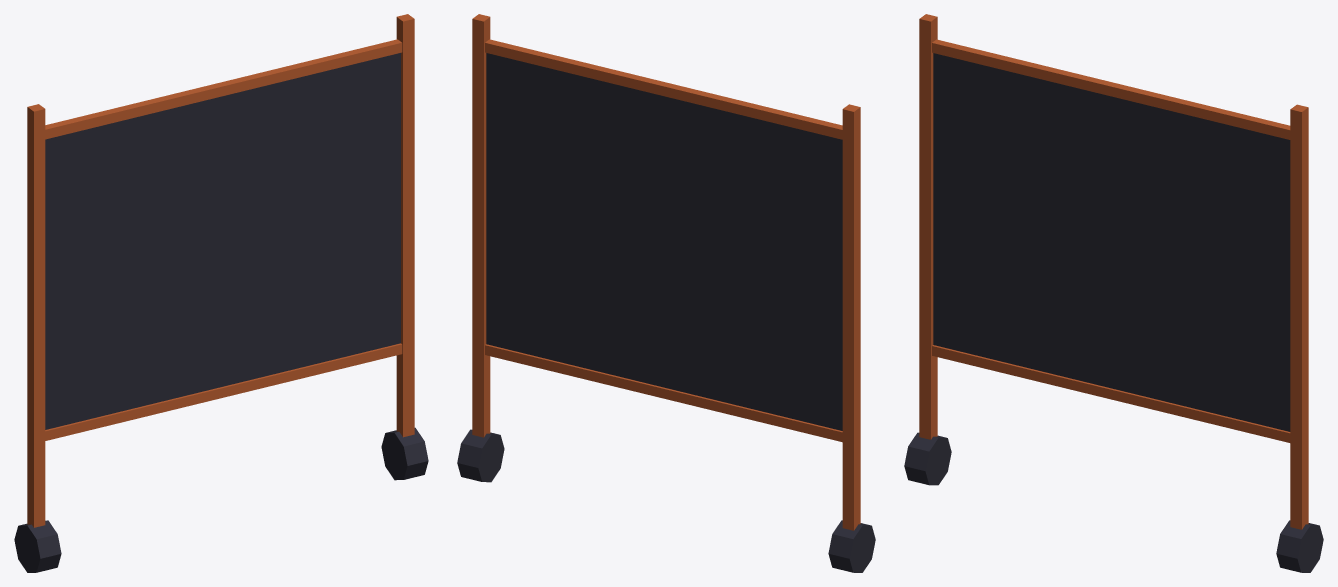
The model's file is Blackboard.fbx.
3 views of the same model, side by side, from view 1: azimuth 30°, elevation 25°; view 2: azimuth 150°, elevation 25°; view 3: azimuth 330°, elevation 25° (orthographic).
Visible parts, largest first — view 1: Blackboard; view 2: Blackboard; view 3: Blackboard.
Part boxes in pixels (<box>): Blackboard: <box>14,14,428,572</box>; Blackboard: <box>457,14,875,572</box>; Blackboard: <box>904,14,1323,572</box>.
Bounding box in the file's own units: 2.07 × 2.34 × 0.2544.
